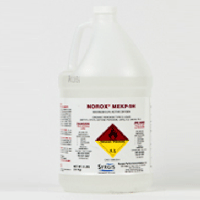OrganicPeroxide: (95, 124, 130, 158)
